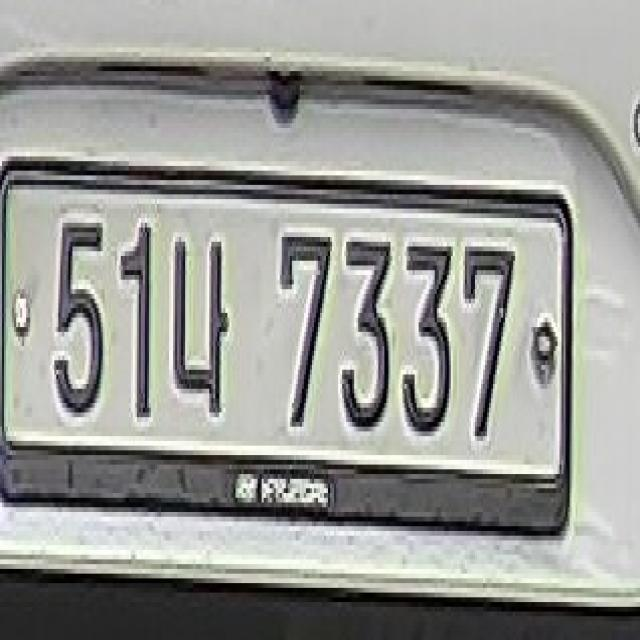1: (114, 213, 156, 433)
3: (398, 226, 454, 452), (340, 229, 394, 446)
5: (45, 213, 107, 427)
7: (274, 218, 334, 444), (459, 238, 519, 463)
license_plate: (5, 173, 574, 493)
na: (168, 223, 238, 431)
